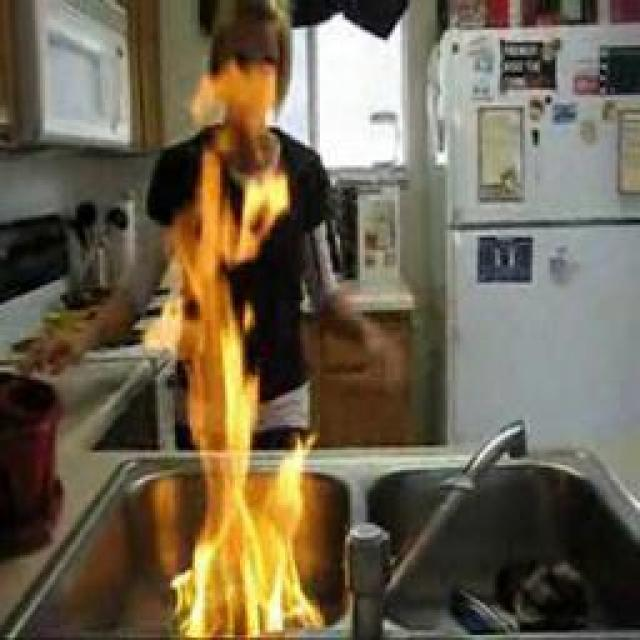Fire: (176, 66, 324, 636)
